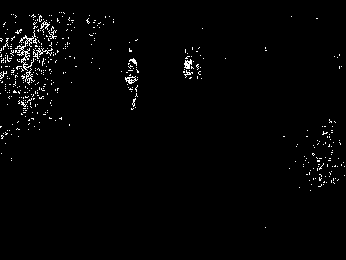person: (123, 57, 140, 111)
